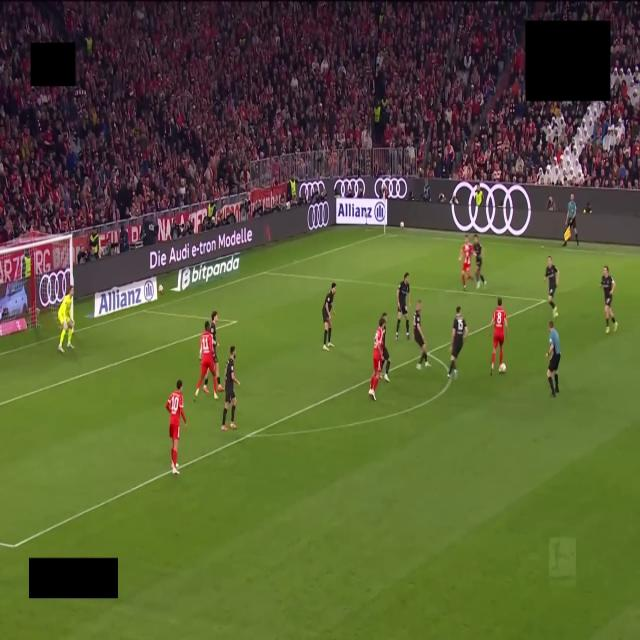ball: (499, 362, 506, 373)
player: (166, 380, 186, 474), (194, 321, 215, 399), (222, 346, 239, 431), (448, 306, 467, 379), (490, 298, 508, 375), (369, 318, 385, 400), (413, 300, 430, 369), (210, 311, 223, 399), (58, 285, 74, 353), (601, 266, 617, 333), (322, 282, 336, 351), (396, 272, 410, 340), (545, 256, 558, 318), (459, 235, 473, 290), (473, 235, 486, 288), (381, 313, 390, 382)
referee: (547, 321, 560, 397)
